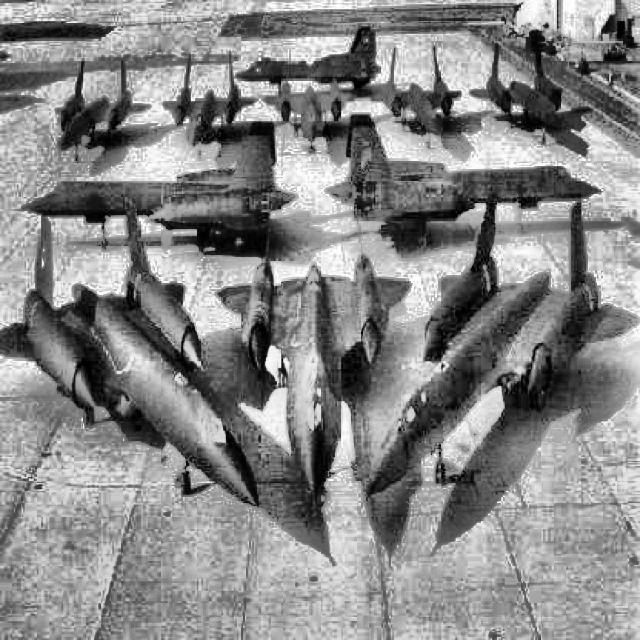SR71: (358, 194, 639, 511), (1, 208, 262, 514), (215, 202, 411, 520), (324, 113, 602, 252), (19, 121, 298, 253), (162, 50, 258, 159), (233, 24, 381, 94), (55, 58, 150, 164), (468, 41, 564, 145), (263, 49, 355, 153), (370, 45, 461, 150)
